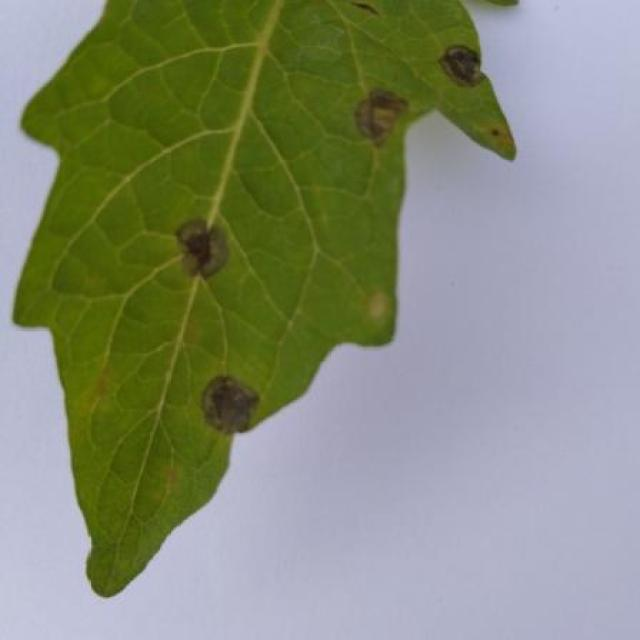Early Blight: (11, 0, 527, 594)
